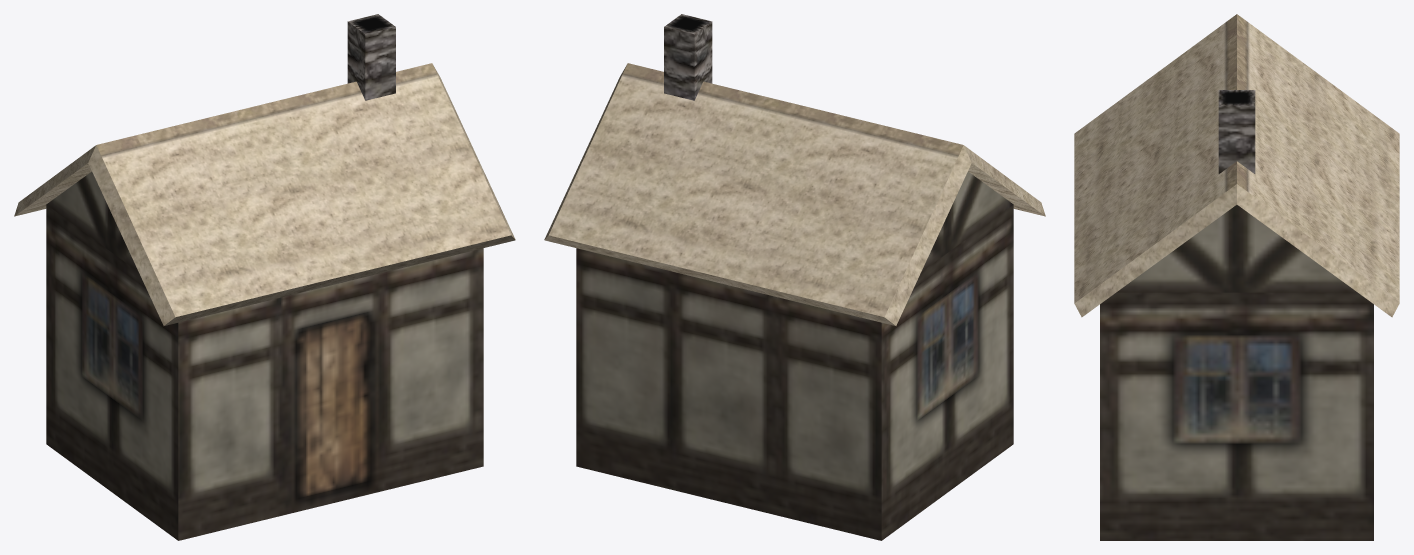
The model's file is house_1.DAE.
3 renders of one model, left to right at view 1: azimuth 30°, elevation 25°; view 2: azimuth 150°, elevation 25°; view 3: azimuth 270°, elevation 25°, orthographic. The views are drawn at different scales.
Visible parts, largest first — view 1: Box002; view 2: Box002; view 3: Box002.
Part boxes in pixels (left/top/right/bottom): Box002: left=14, top=14, right=515, bottom=540; Box002: left=544, top=14, right=1045, bottom=540; Box002: left=1074, top=14, right=1399, bottom=540.
Size of the model in its own units: 23.11 by 17.8 by 25.35.
